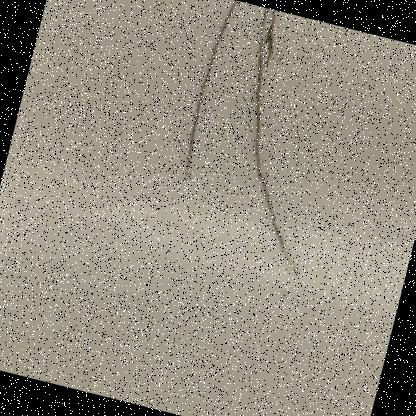Crack: (96, 0, 415, 317)
